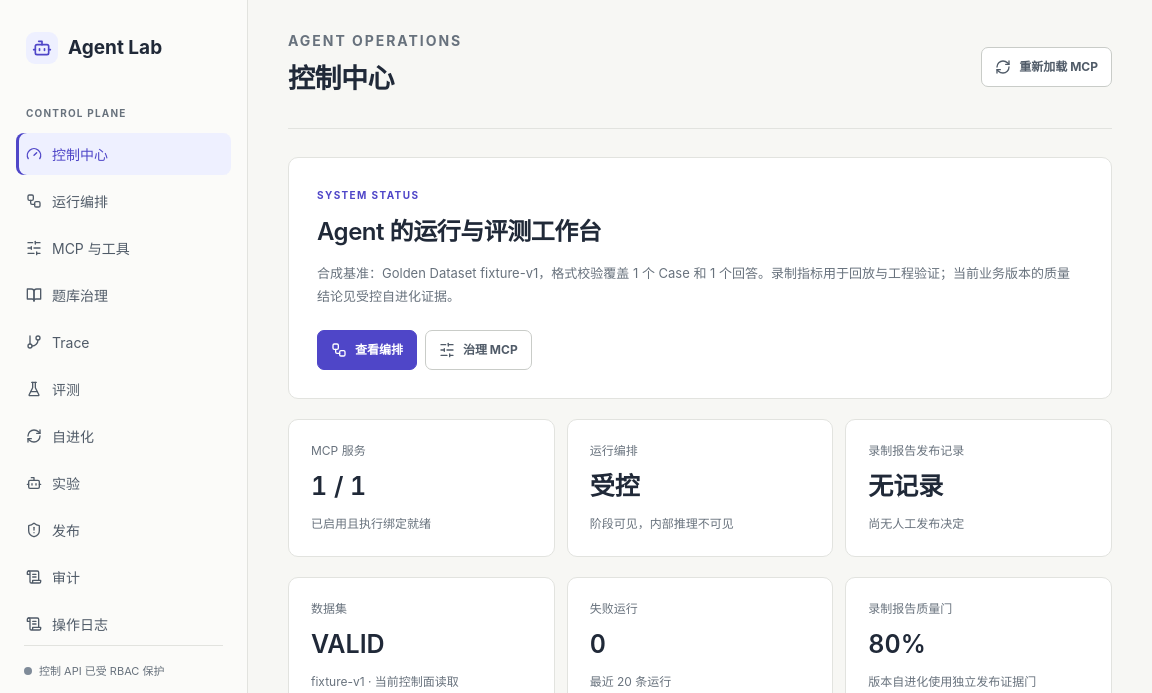
Test: MCP workspace process scope and state recovery › describes the actual process boundary and confirms only the exact applied toggle
The image size is (1152, 693).
Click the button "治理 MCP" at (478, 350), box [425, 330, 532, 370]
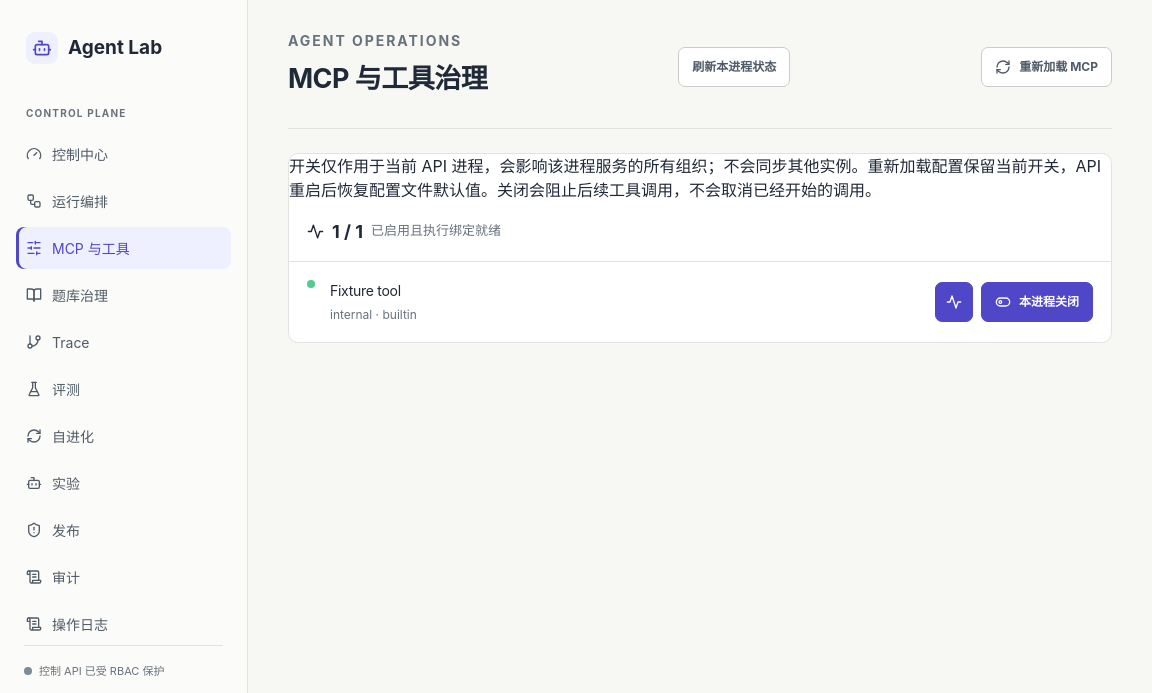
Result: the button "本进程关闭" is shown
Result: the text "开关仅作用于当前 API 进程，会影响该进程服务的所有组织；不会同步其他实例。重新加载配置保留当前开关，API 重启后恢复配置文件默认值。关闭会阻止后续工具调用，不会取消已经开始的调用。" is shown at [289, 156, 1101, 200]
Click the button "本进程关闭" at (1037, 302), box [981, 282, 1093, 322]
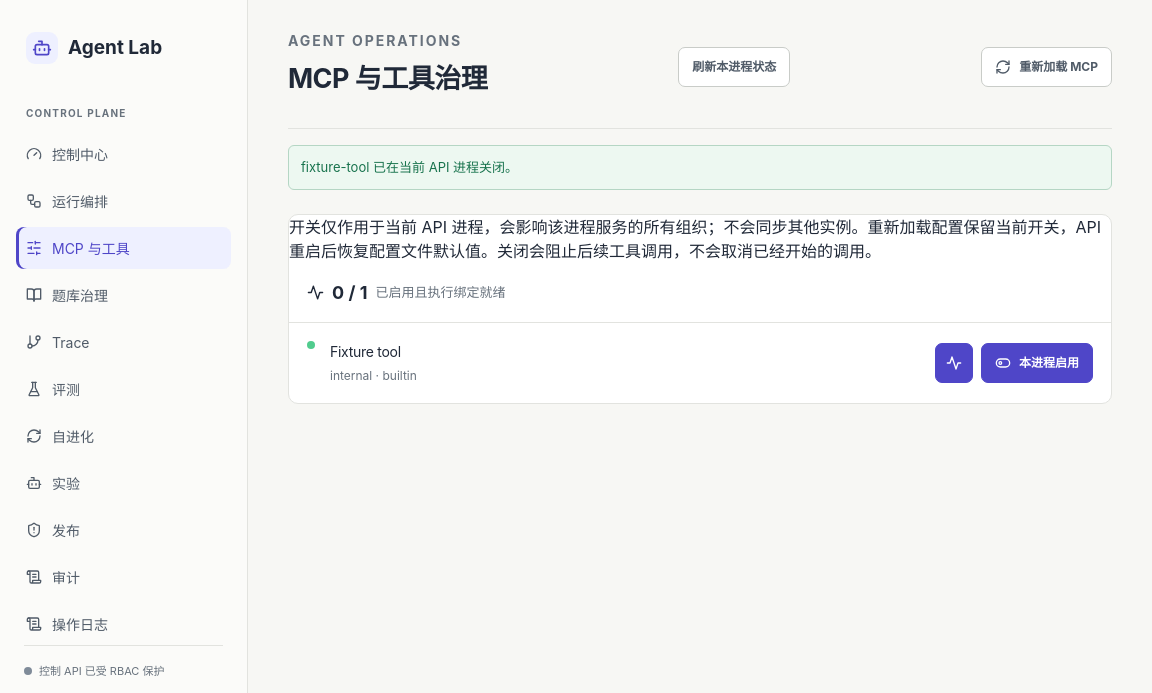
Result: the text "fixture-tool 已在当前 API 进程关闭。" is shown at [288, 144, 1112, 190]
Result: the button "本进程启用" is shown
Click the button "本进程启用" at (1037, 363), box [981, 343, 1093, 383]
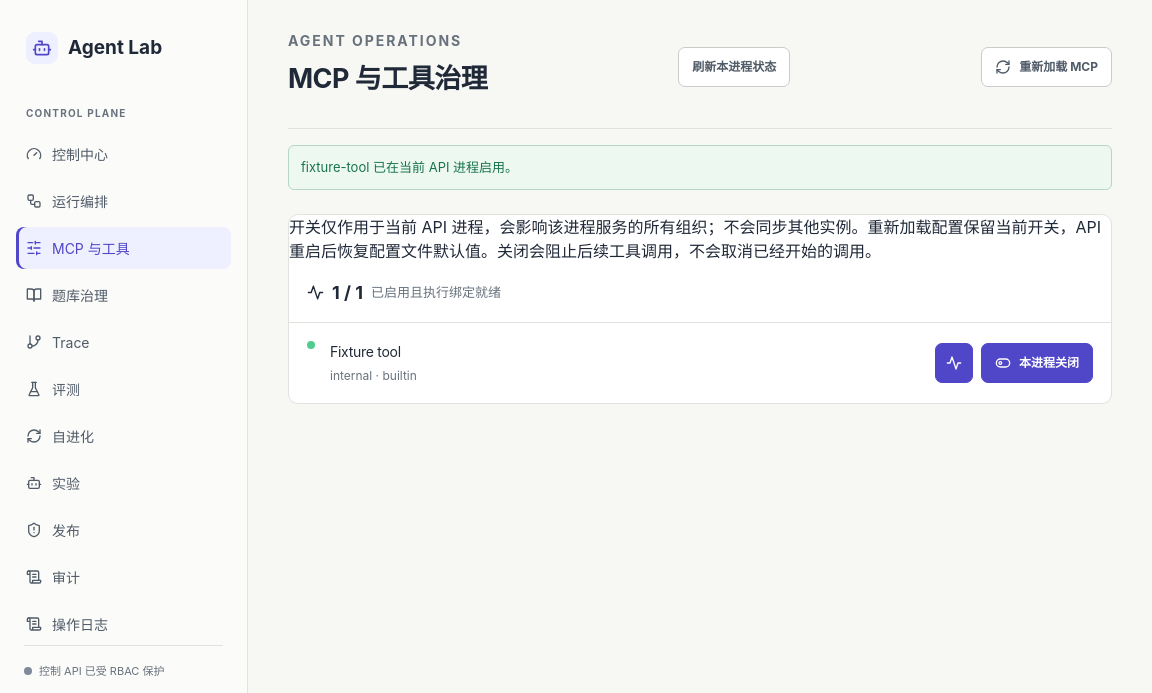
Result: the text "fixture-tool 已在当前 API 进程启用。" is shown at [288, 144, 1112, 190]
